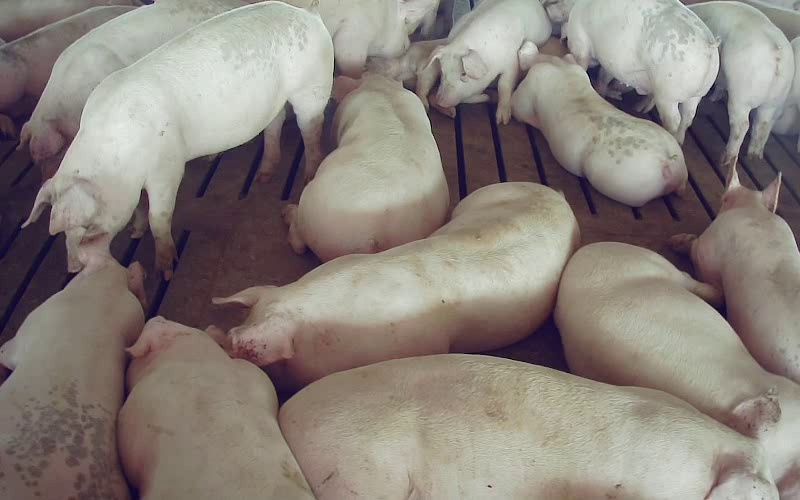pig: (26, 2, 333, 278), (215, 182, 578, 390), (279, 354, 777, 499), (554, 242, 799, 499), (0, 234, 143, 499), (117, 316, 313, 499), (284, 73, 447, 260), (512, 42, 687, 206), (671, 160, 799, 382), (544, 0, 718, 143), (689, 2, 793, 181)
